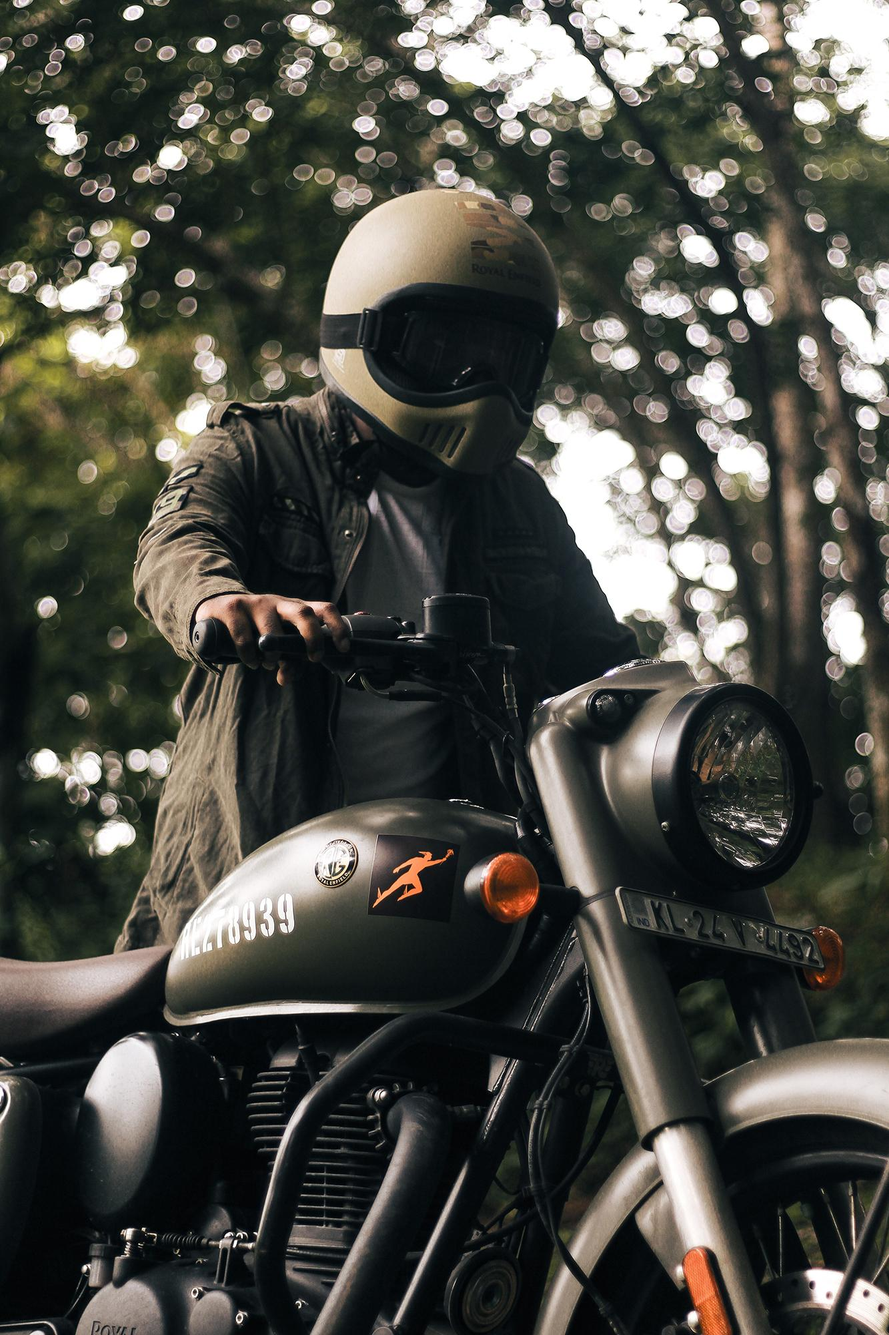helmet: (317, 186, 561, 485)
